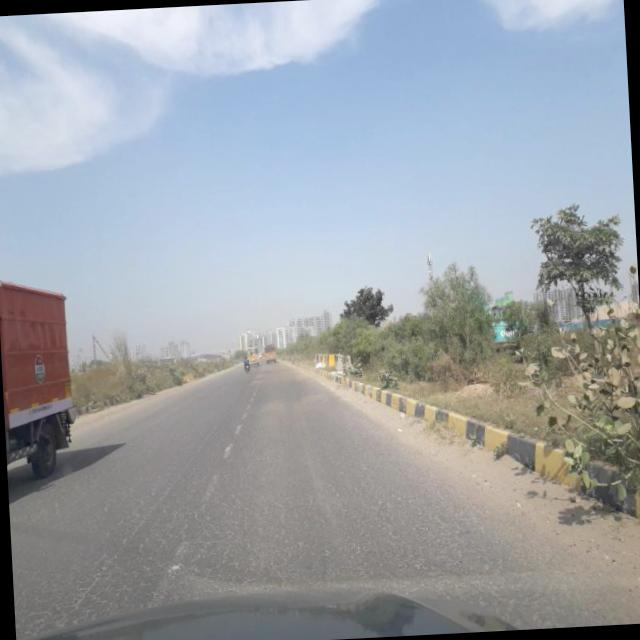crack: (8, 433, 545, 601)
pothole: (61, 449, 209, 616)
